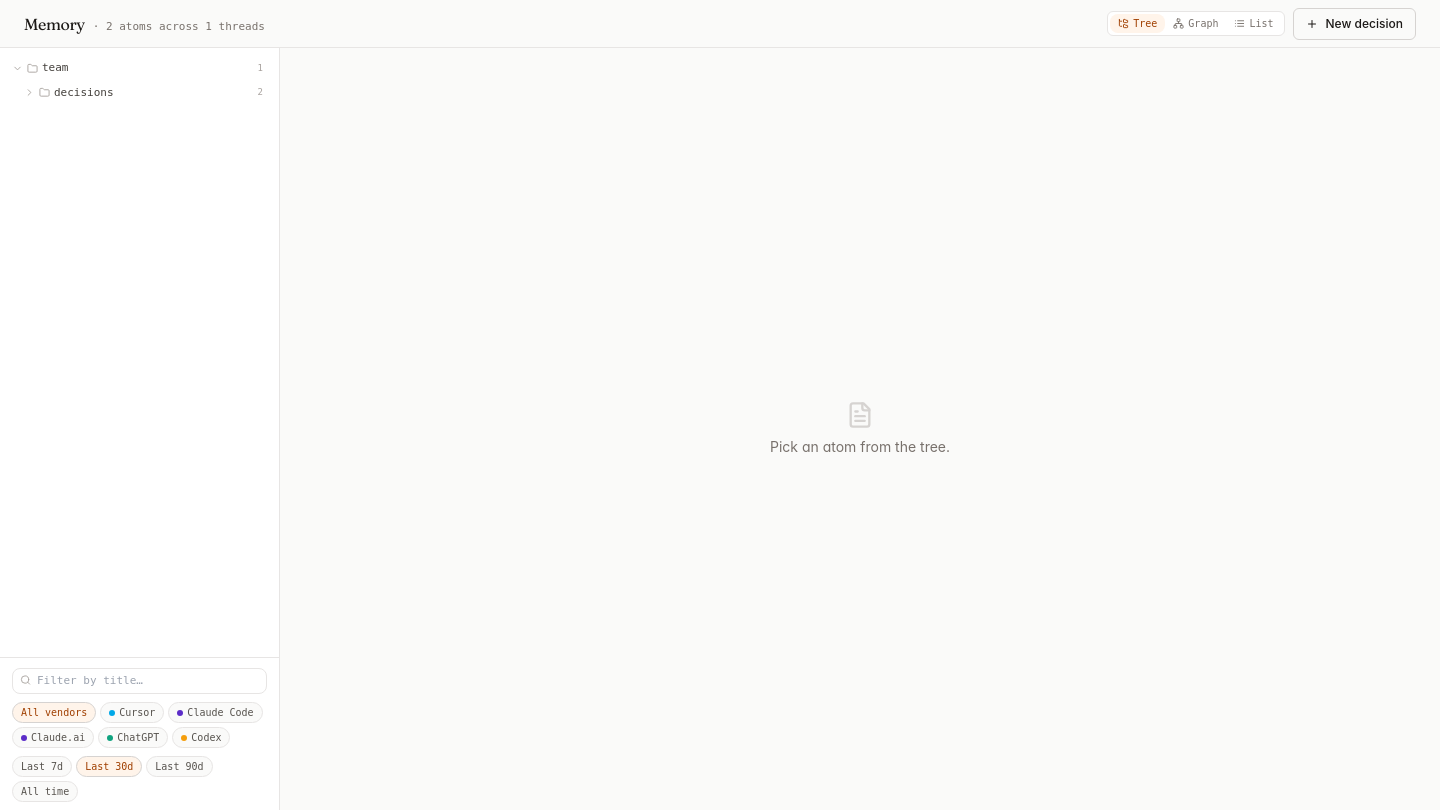
Test: Wave 23 — view toggle on /memory route › renders Tree | Graph | List toggle and switches the right pane
This screenshot has width=1440, height=810.
Expected: the element with test id "memory-view-toggle" is shown, [1107,11,1285,36]
Expected: the tab with test id "memory-view-toggle-tree" is shown, [1110,14,1165,33]
Note: Click Graph → graph view mounts, preview unmounts.
What coordinates should you click on to do the following:
click the tab with test id "memory-view-toggle-graph"
I would click on:
 (1196, 24)
Its box is [1165,14,1226,33].
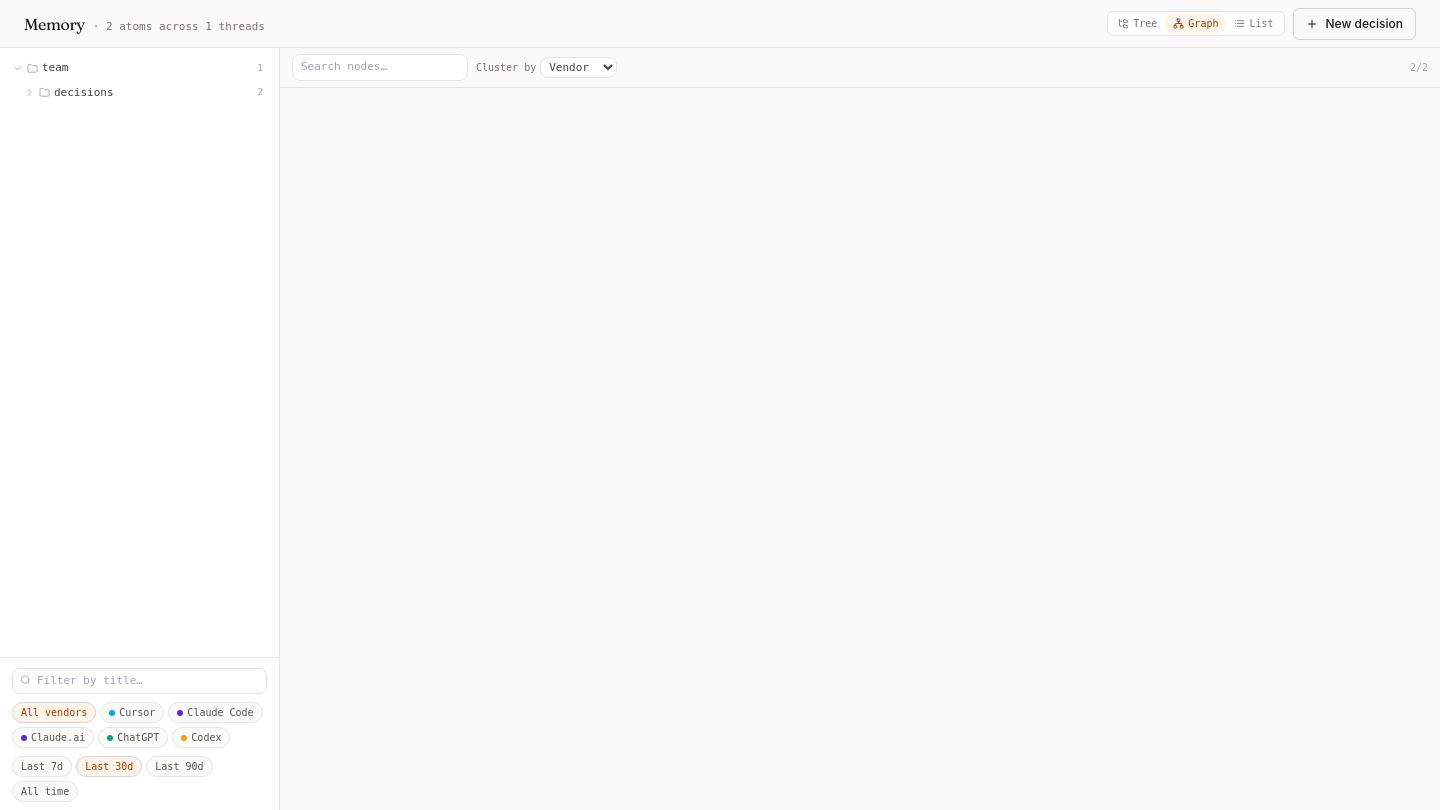
Expected: the element with test id "memory-graph-view" is shown
Expected: the element with test id "memory-preview-empty" is gone
Note: Click List → list view mounts.
What coordinates should you click on to do the following:
click the tab with test id "memory-view-toggle-list"
I would click on:
 (1254, 24)
Its box is [1226,14,1282,33].
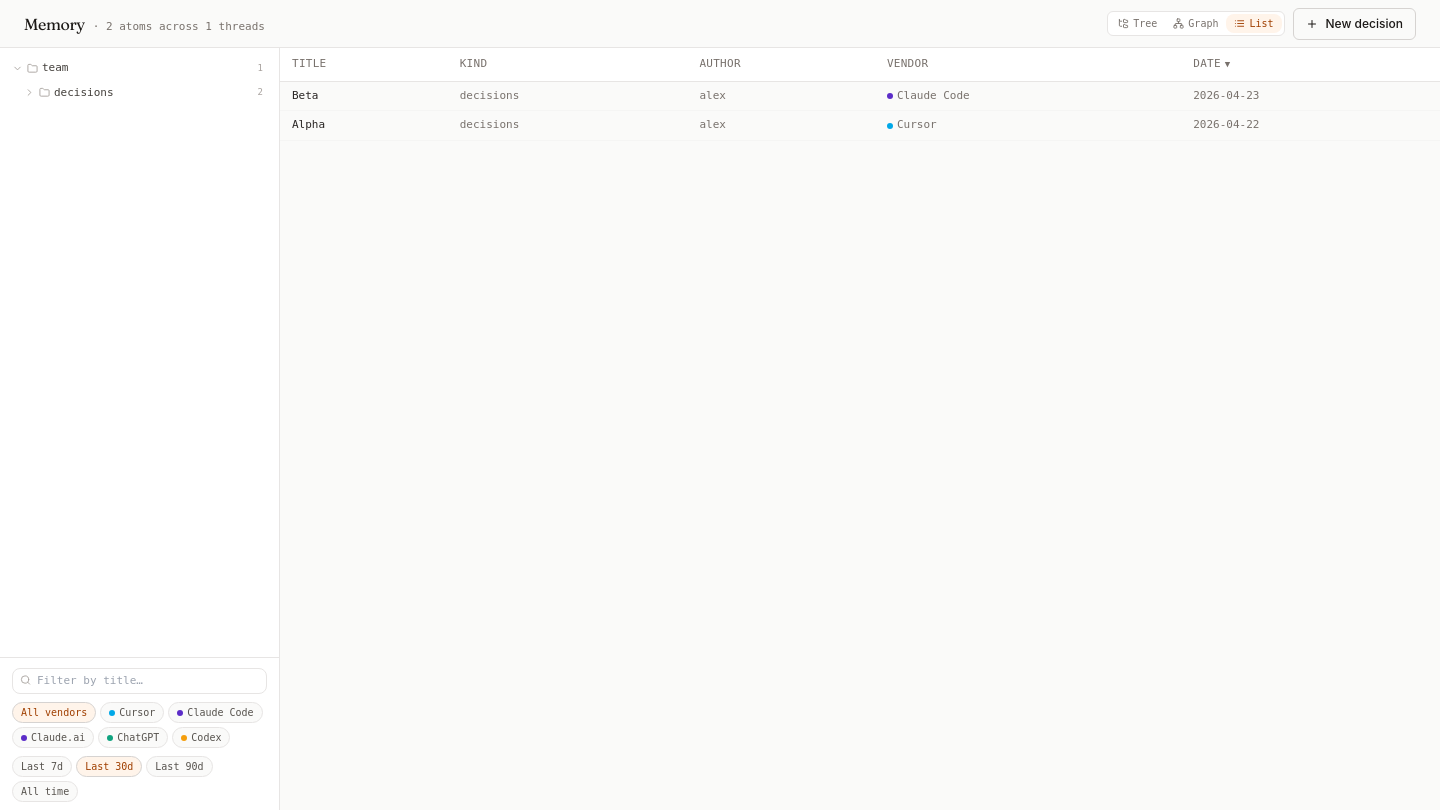
Expected: the element with test id "memory-list-view" is shown
